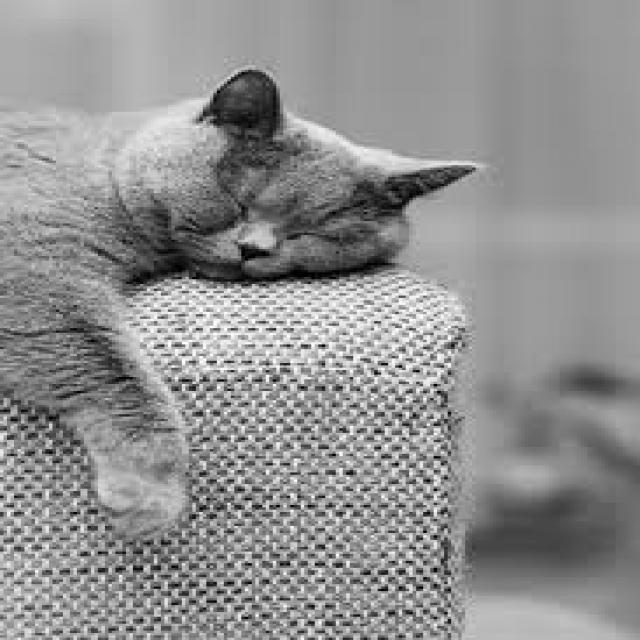Cat: (0, 65, 494, 538)
